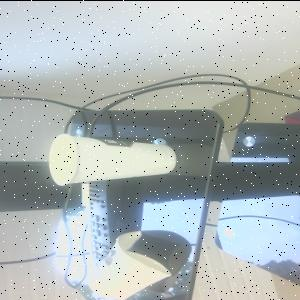Cup: (49, 133, 178, 186), (88, 231, 173, 300)
